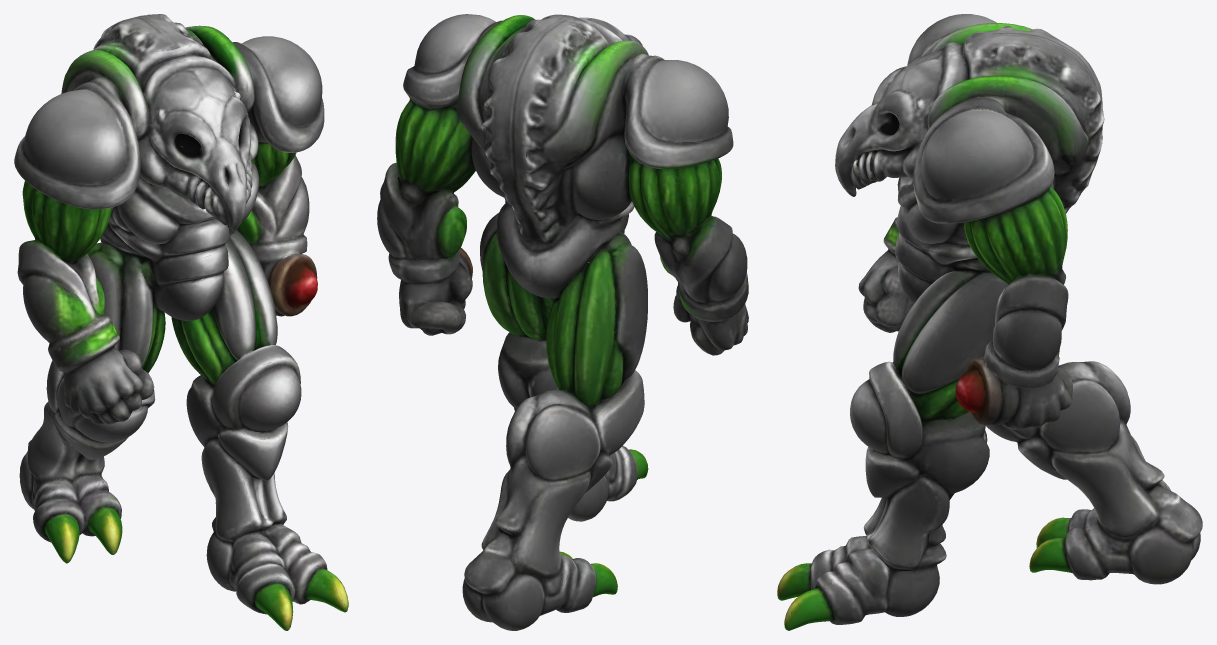
The model's file is BOSSD1_2026-08-14T201652.613.glb.
3 renders of one model, left to right at view 1: azimuth 30°, elevation 25°; view 2: azimuth 150°, elevation 25°; view 3: azimuth 270°, elevation 25°, orthographic. The views are drawn at different scales.
Parts seen in each view (by area): view 1: world; view 2: world; view 3: world.
Part boxes in pixels (x1,y1,x2,y2): world: (14, 14, 348, 630); world: (377, 14, 748, 630); world: (777, 14, 1202, 630).
Bounding box in the file's own units: 0.6139 × 0.9904 × 0.689.
Materials: 1 (1 with a texture image).
